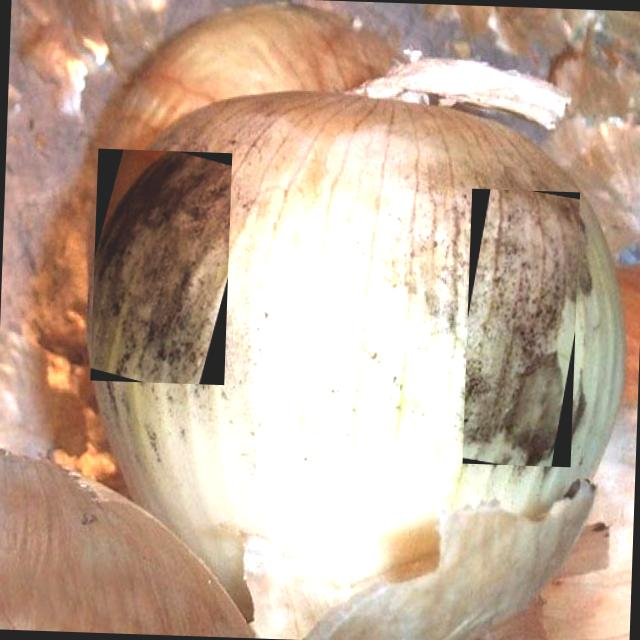mould: (90, 148, 232, 384), (462, 188, 580, 467)
